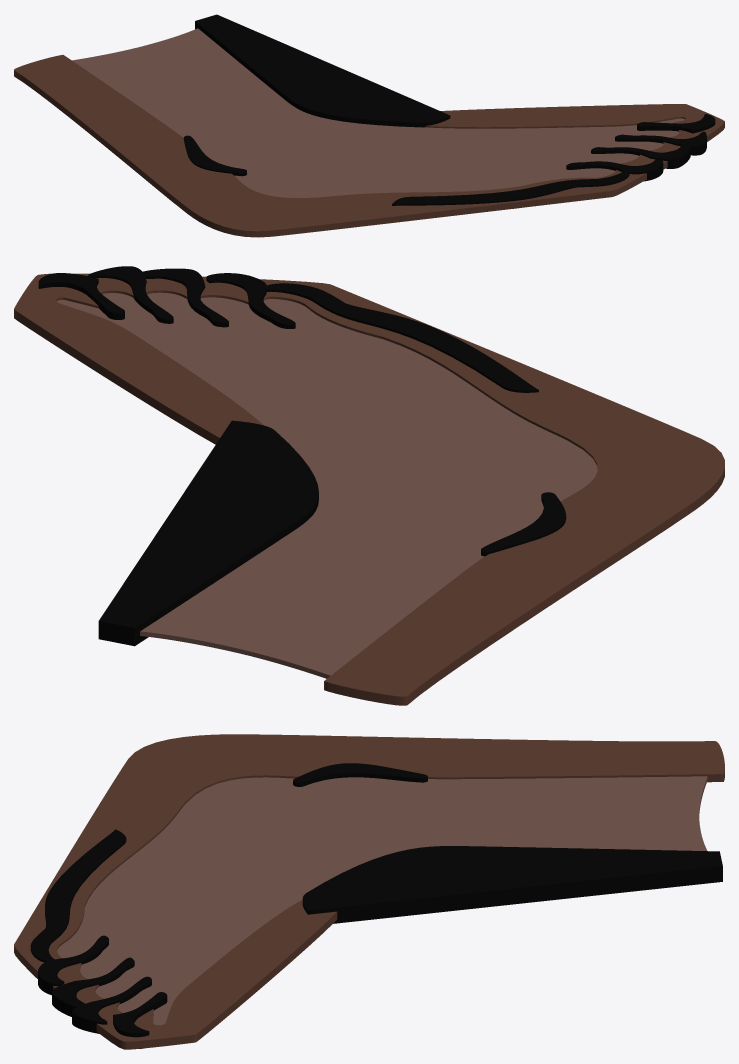
Rendered from emoji_u1f9b6_1f3ff.glb.
3 views of the same model, one above another, from view 1: azimuth 30°, elevation 25°; view 2: azimuth 150°, elevation 25°; view 3: azimuth 270°, elevation 25° (orthographic). The views are drawn at different scales.
Visible parts, largest first — view 1: emoji_u1f9b6_1f3ff; view 2: emoji_u1f9b6_1f3ff; view 3: emoji_u1f9b6_1f3ff.
Part boxes in pixels (x1,y1,x2,y2): emoji_u1f9b6_1f3ff: (14, 14, 724, 237); emoji_u1f9b6_1f3ff: (14, 266, 724, 705); emoji_u1f9b6_1f3ff: (14, 734, 724, 1049).
Bounding box in the file's own units: 0.0333 × 0.0008 × 0.0325.
